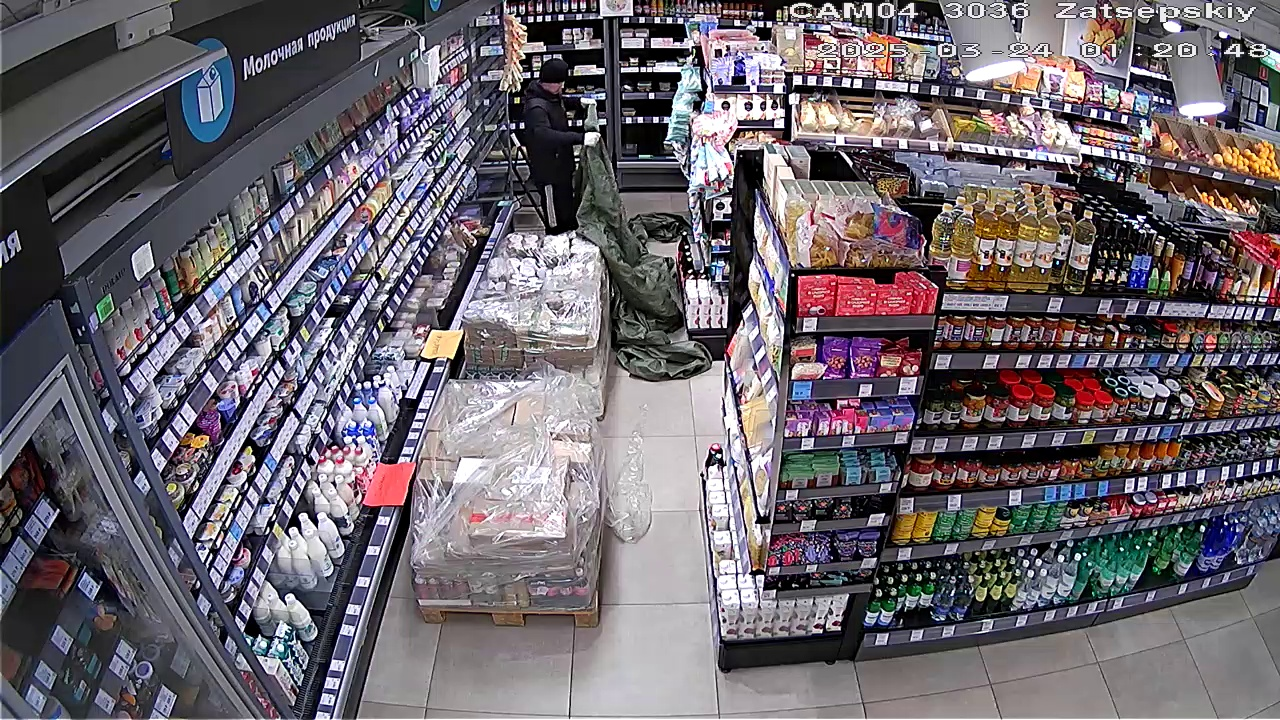Human: (510, 53, 590, 230)
pallet: (405, 376, 611, 629), (465, 234, 607, 379)
